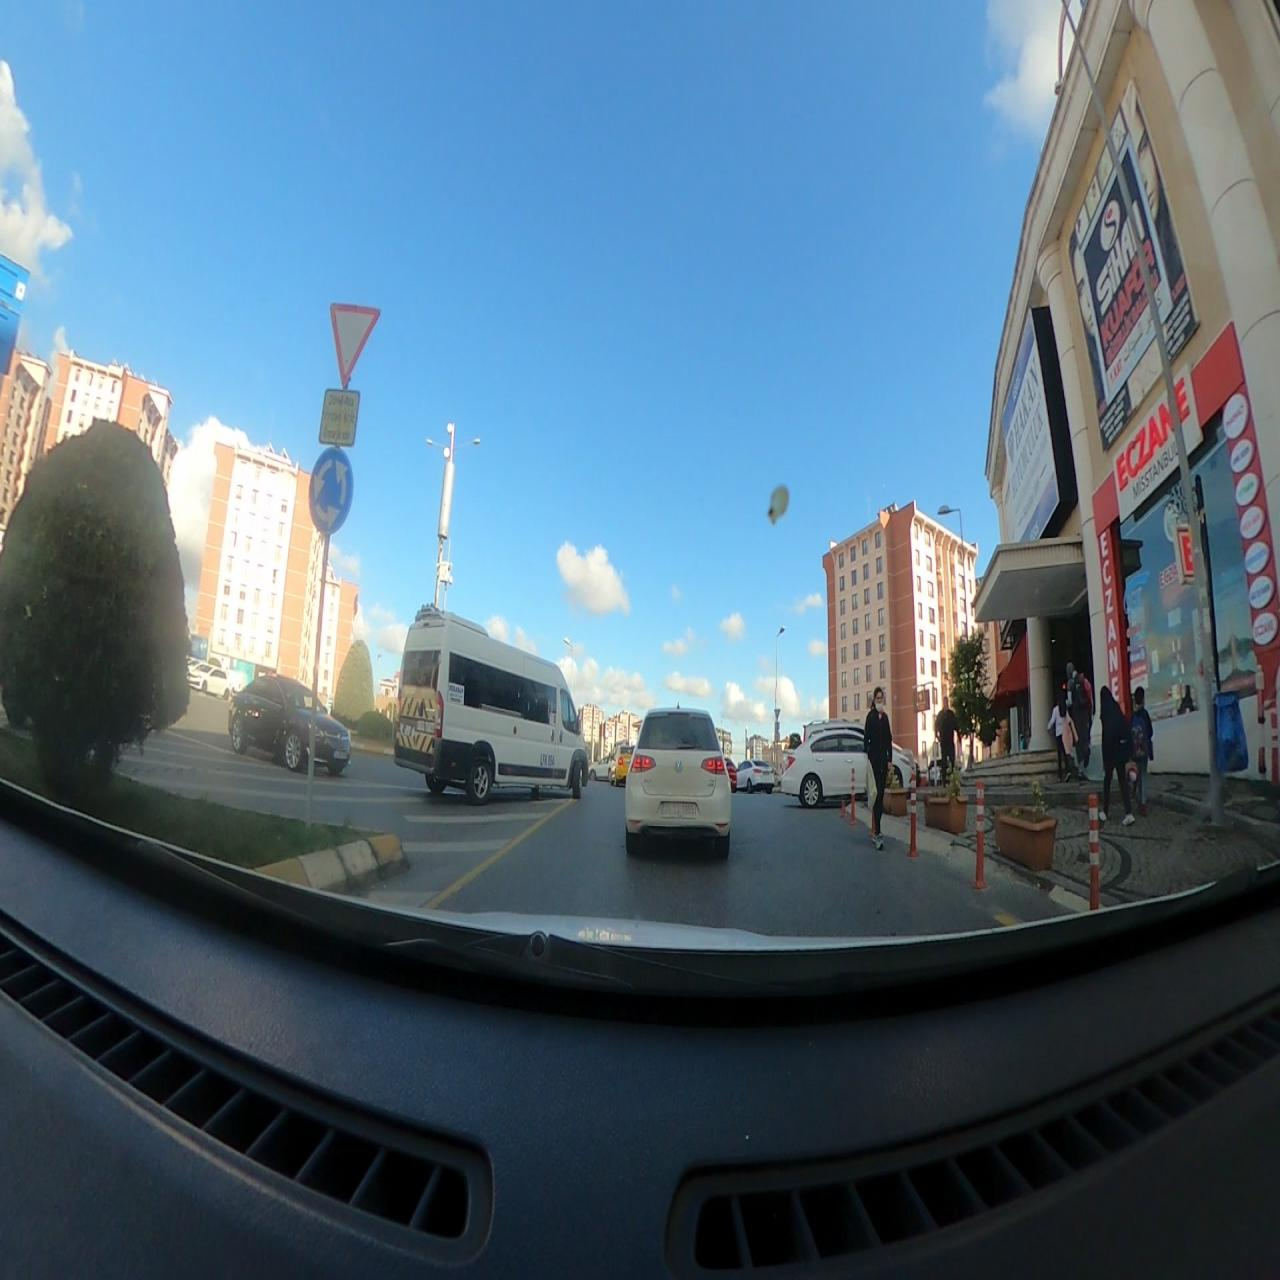SignStore: (1112, 393, 1179, 522)
